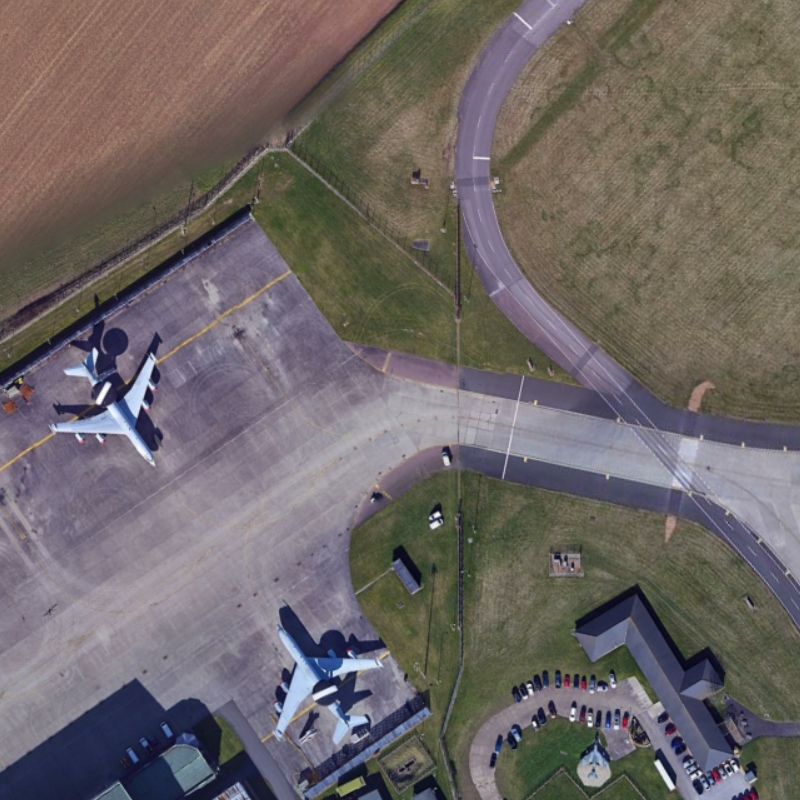A7: (265, 610, 392, 754), (42, 347, 174, 472)
